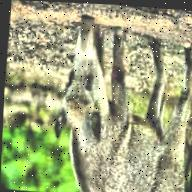boar: (48, 14, 192, 192)
